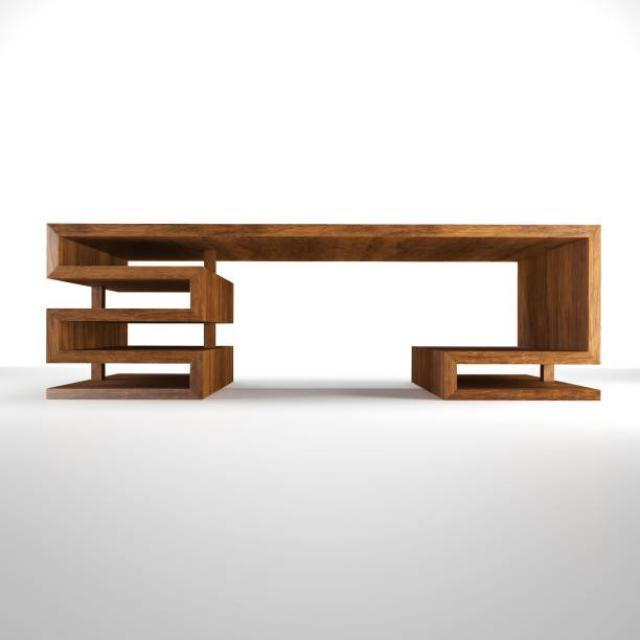table: (43, 220, 602, 402)
